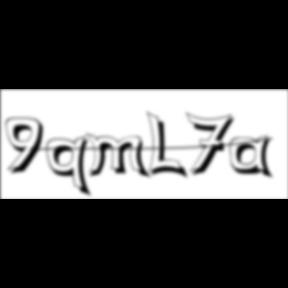7: (186, 111, 240, 179)
9: (6, 117, 50, 177)
L: (147, 110, 191, 182)
a: (230, 135, 278, 182)
m: (86, 132, 154, 181)
q: (46, 135, 96, 200)
